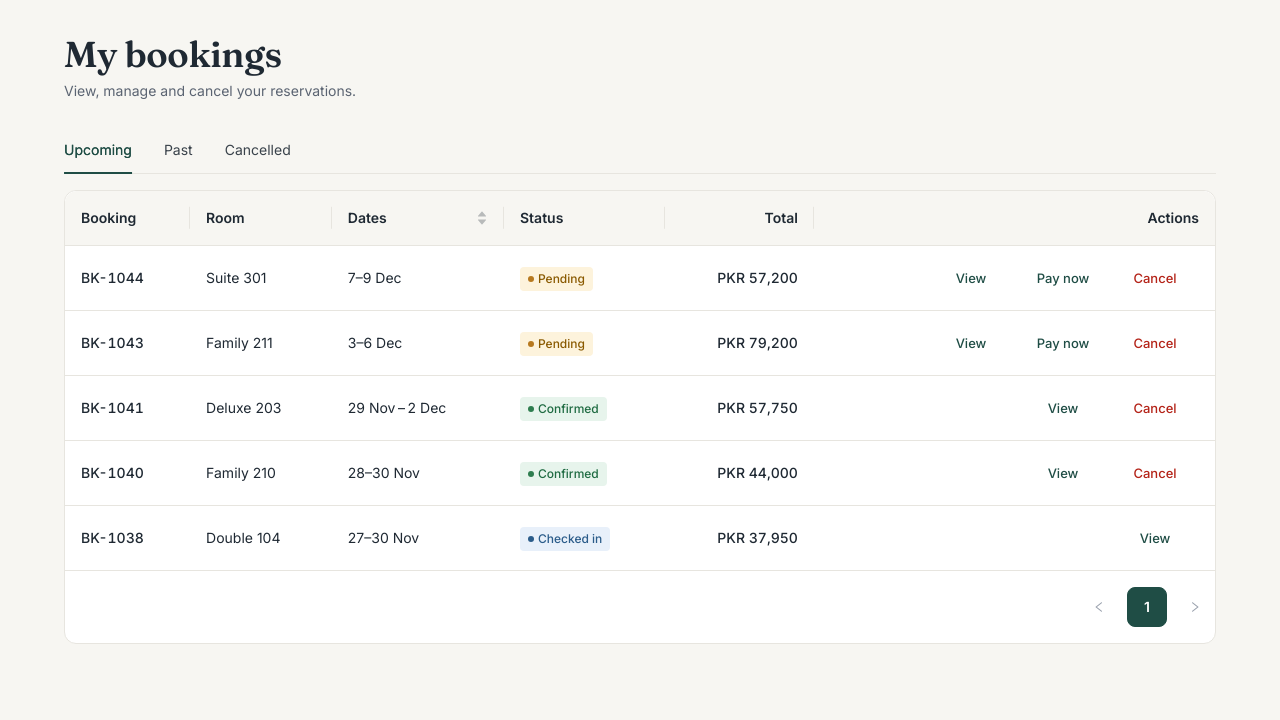
Test case: MyBookingsView › reuses the shared payment-waiting flow for Pay now on pending bookings and updates status
Check: the text "Pending" in the row of "BK-1044" is shown, box x1=538 y1=270 x2=585 y2=286
Click the button "Pay now" in the row of "BK-1044".
click(1063, 278)  # box x1=1019 y1=262 x2=1107 y2=294
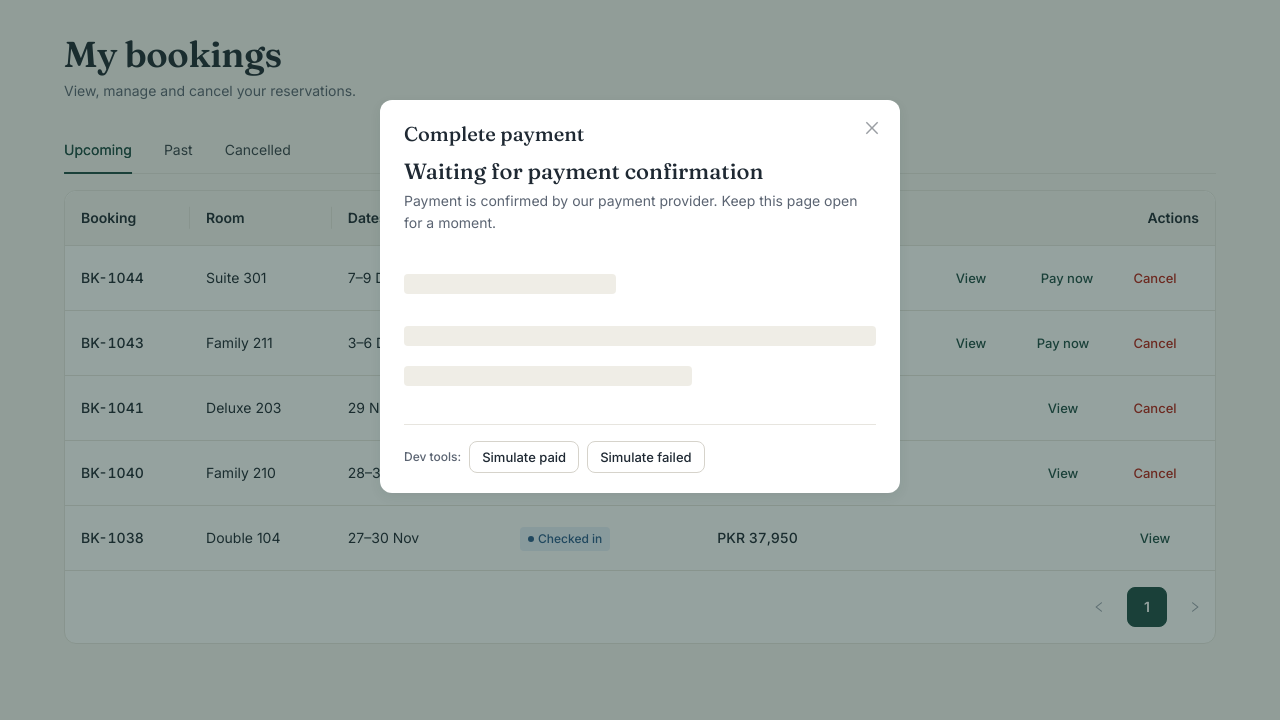
Check: the heading "Waiting for payment confirmation" is shown, box x1=404 y1=157 x2=763 y2=185
Check: the button "Simulate paid" is shown
Click the button "Simulate paid".
click(524, 457)  # box x1=469 y1=441 x2=579 y2=473
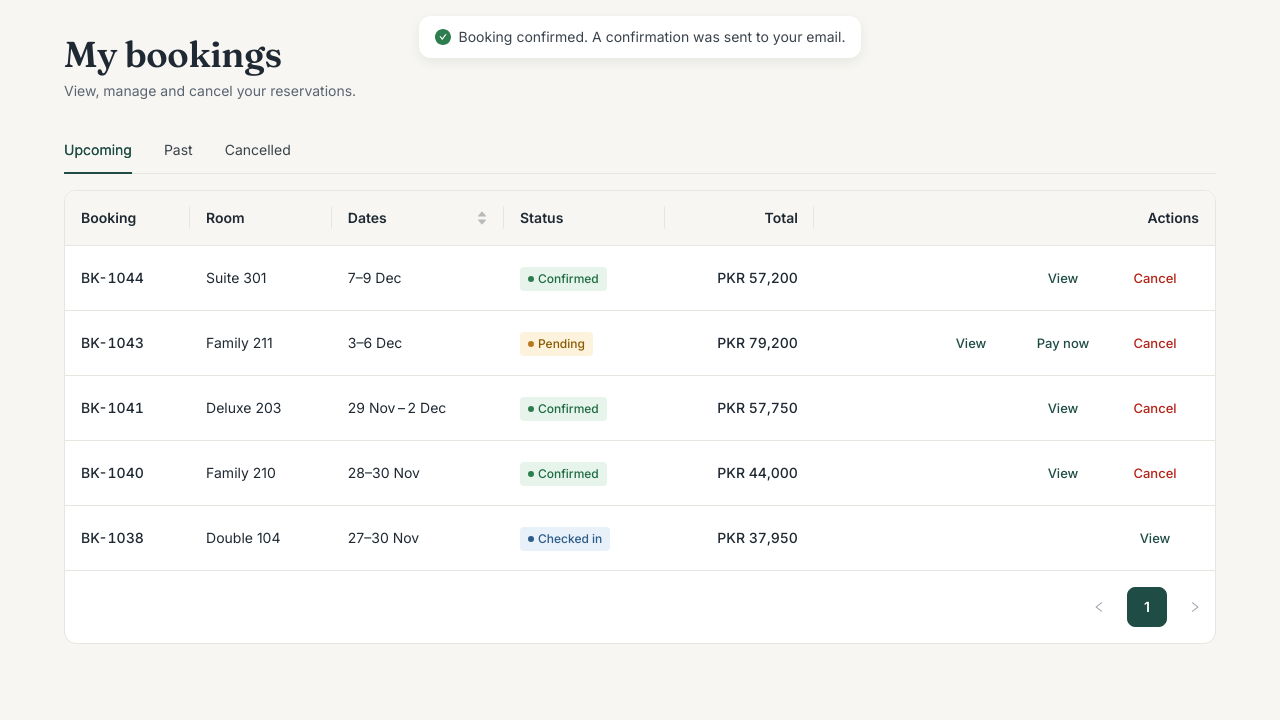
Check: the text "Booking confirmed. A confirmation was sent to your email." is shown, box x1=459 y1=26 x2=846 y2=48
Check: the text "Confirmed" is shown, box x1=538 y1=270 x2=599 y2=288
